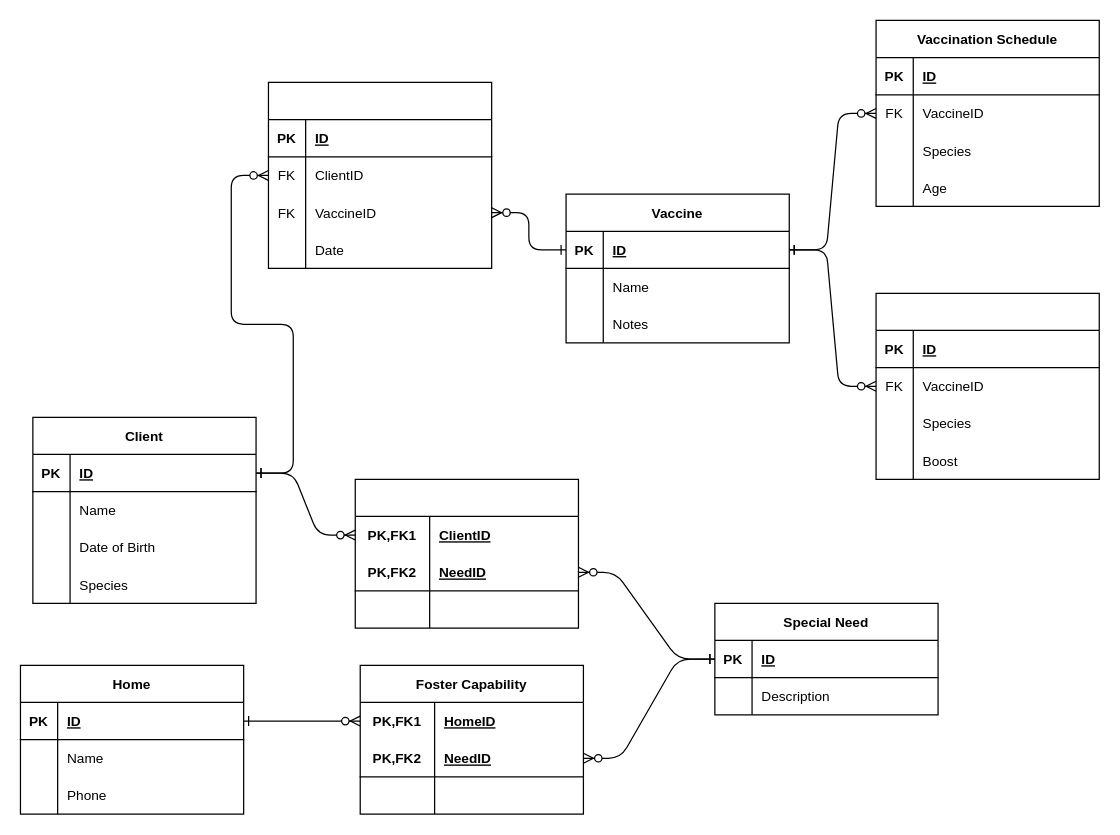
Some shapes in this 1120 by 835 pixel diagram are drawn without their labels. The box of each missing label's shape, as (x1, y1, x2, y2) in pixels:
Animal Need: (354, 478, 578, 628)
Recurring Vaccine: (875, 292, 1099, 479)
Vaccination: (267, 81, 492, 268)
